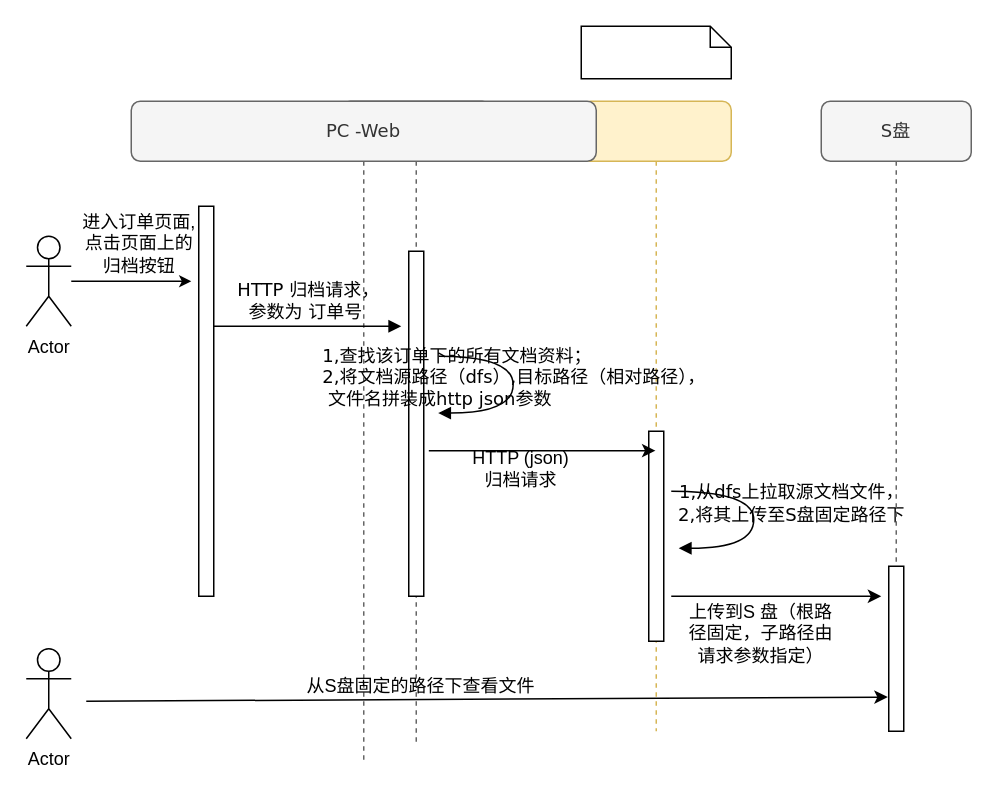
This 998x797 diagram has some shape labels left out. The centre of each missing label's shape, as x and y in pixels:
"Archive-Service" belongs at (x=655, y=415).
"New" belongs at (x=655, y=52).
